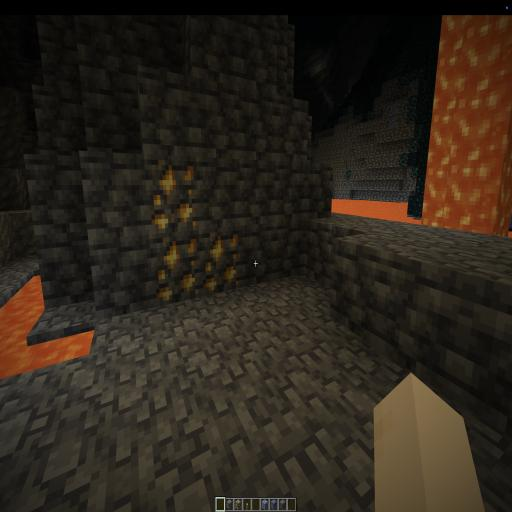gold ore: (148, 159, 244, 300)
